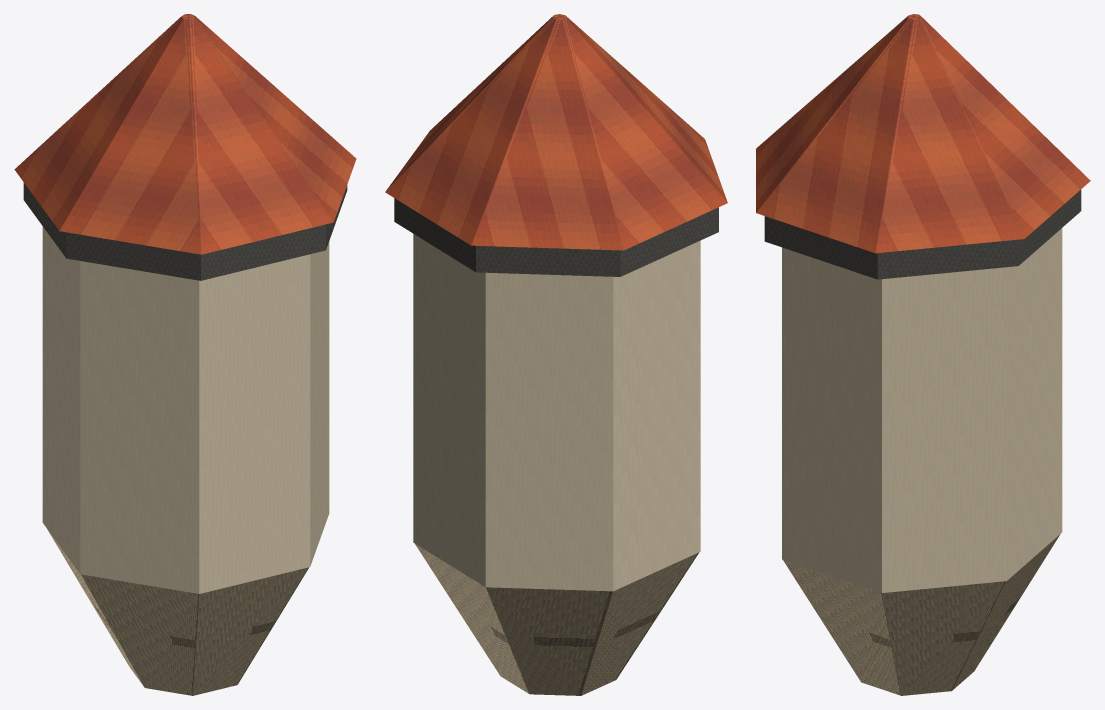
File: corner-turret-lod0.glb
3 views of the same model, side by side, from view 1: azimuth 30°, elevation 25°; view 2: azimuth 150°, elevation 25°; view 3: azimuth 270°, elevation 25° (orthographic).
Parts seen in each view (by area): view 1: corner-turret-lod0; view 2: corner-turret-lod0; view 3: corner-turret-lod0.
Part boxes in pixels (box(x1,y1,x2,y2)): corner-turret-lod0: box(14, 14, 356, 695); corner-turret-lod0: box(385, 14, 727, 695); corner-turret-lod0: box(756, 14, 1090, 695).
Size of the model in its own units: 1.44 by 3.04 by 1.41.
Materials: 1 (1 with a texture image).
